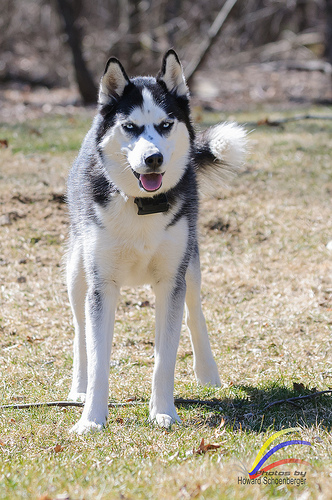dog: (57, 48, 226, 441)
